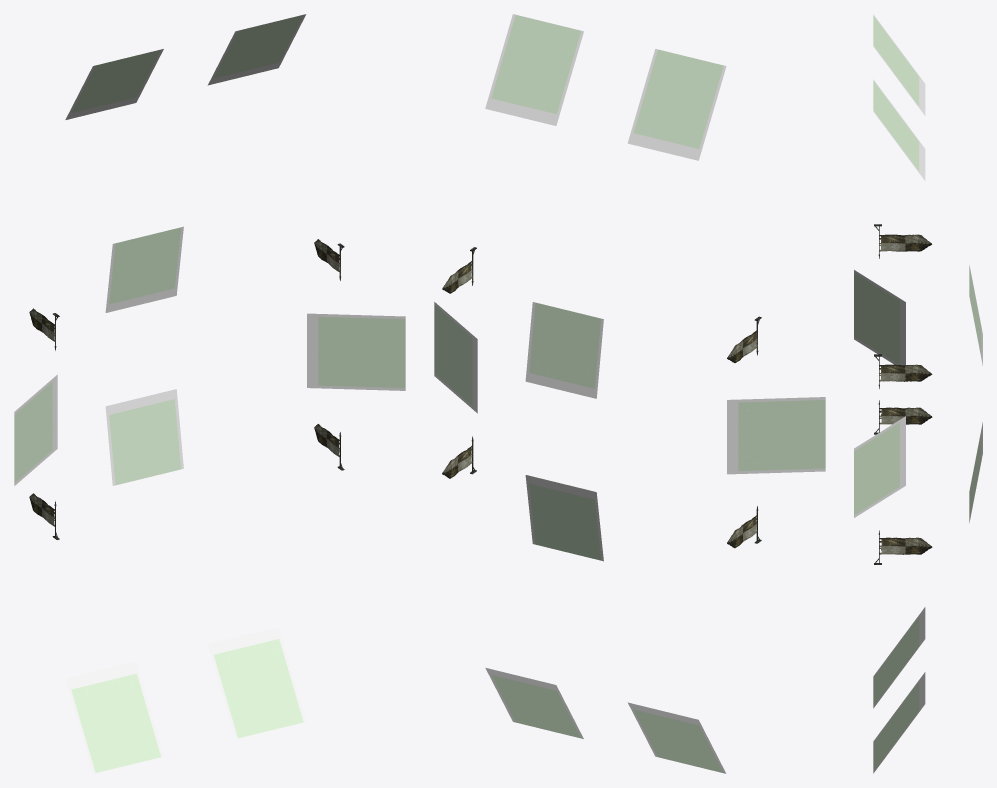
Rendered from tdr_d_room_a_effects.obj.
3 renders of one model, left to right at view 1: azimuth 30°, elevation 25°; view 2: azimuth 150°, elevation 25°; view 3: azimuth 270°, elevation 25°, orthographic. The views are drawn at different scales.
Visible parts, largest first — view 1: Plane.001, tdr_d_flag.000_tdr_d_flag.005; view 2: Plane.001, tdr_d_flag.000_tdr_d_flag.005; view 3: Plane.001, tdr_d_flag.000_tdr_d_flag.005.
Boxes of the visible parts, left/top/right/bottom form: Plane.001: left=14, top=14, right=405, bottom=773; tdr_d_flag.000_tdr_d_flag.005: left=29, top=239, right=339, bottom=526; Plane.001: left=434, top=14, right=825, bottom=773; tdr_d_flag.000_tdr_d_flag.005: left=442, top=260, right=757, bottom=548; Plane.001: left=854, top=14, right=982, bottom=773; tdr_d_flag.000_tdr_d_flag.005: left=879, top=234, right=932, bottom=554.
Bounding box in the file's own units: 5632 × 9728 × 1715.
Materials: 3 (3 with a texture image).
